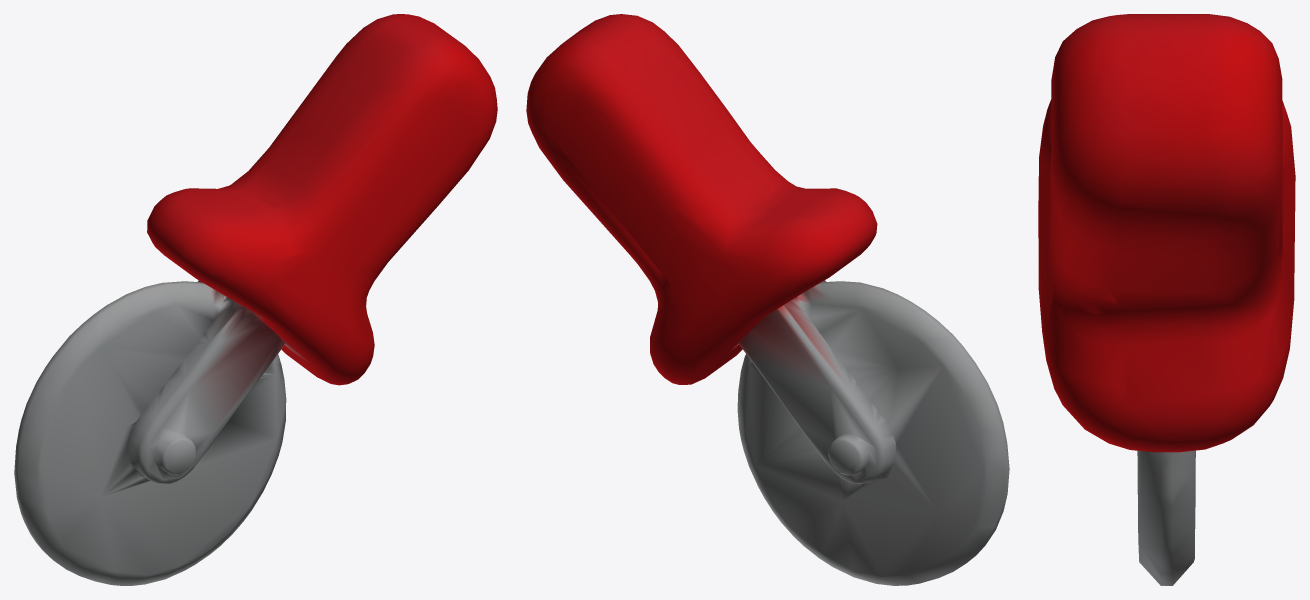
File: meshy-cutter.glb
The picture shows the model from 3 angles, left to right: view 1: azimuth 30°, elevation 25°; view 2: azimuth 150°, elevation 25°; view 3: azimuth 270°, elevation 25°; orthographic projection. The views are drawn at different scales.
Parts seen in each view (by area): view 1: Mesh_0; view 2: Mesh_0; view 3: Mesh_0.
Part boxes in pixels (x1,y1,x2,y2): Mesh_0: (14,14,497,585); Mesh_0: (526,14,1009,585); Mesh_0: (1038,14,1295,585).
Size of the model in its own units: 1.88 by 1.9 by 0.5993.
